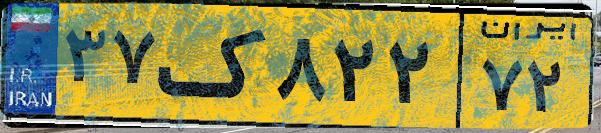2: (385, 28, 445, 110), (330, 28, 385, 110), (525, 38, 570, 115)
3: (57, 26, 110, 100)
7: (475, 38, 525, 113), (110, 28, 158, 98)
8: (270, 28, 330, 110)
ک: (158, 12, 270, 120)
